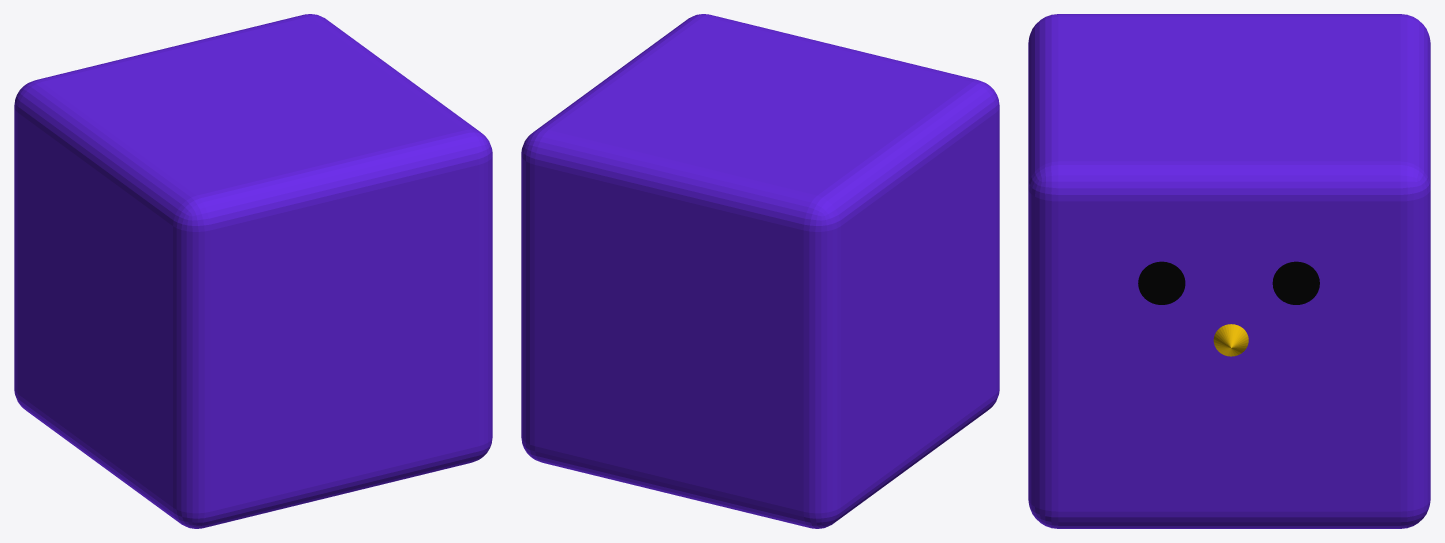
Rendered from char.glb.
3 renders of one model, left to right at view 1: azimuth 30°, elevation 25°; view 2: azimuth 150°, elevation 25°; view 3: azimuth 270°, elevation 25°, orthographic. The views are drawn at different scales.
Parts seen in each view (by area): view 1: Cube; view 2: Cube; view 3: Cube, Cylinder, Cylinder.001, Cone.
Part boxes in pixels (left/top/right/bottom): Cube: left=14, top=14, right=492, bottom=528; Cube: left=521, top=14, right=999, bottom=528; Cube: left=1028, top=14, right=1430, bottom=528; Cylinder: left=1138, top=261, right=1185, bottom=304; Cylinder.001: left=1272, top=261, right=1319, bottom=304; Cone: left=1213, top=324, right=1248, bottom=356.
Size of the model in its own units: 2.28 by 2.1 by 2.1.
